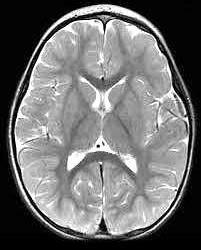Normal_Brain: (1, 1, 201, 250)
